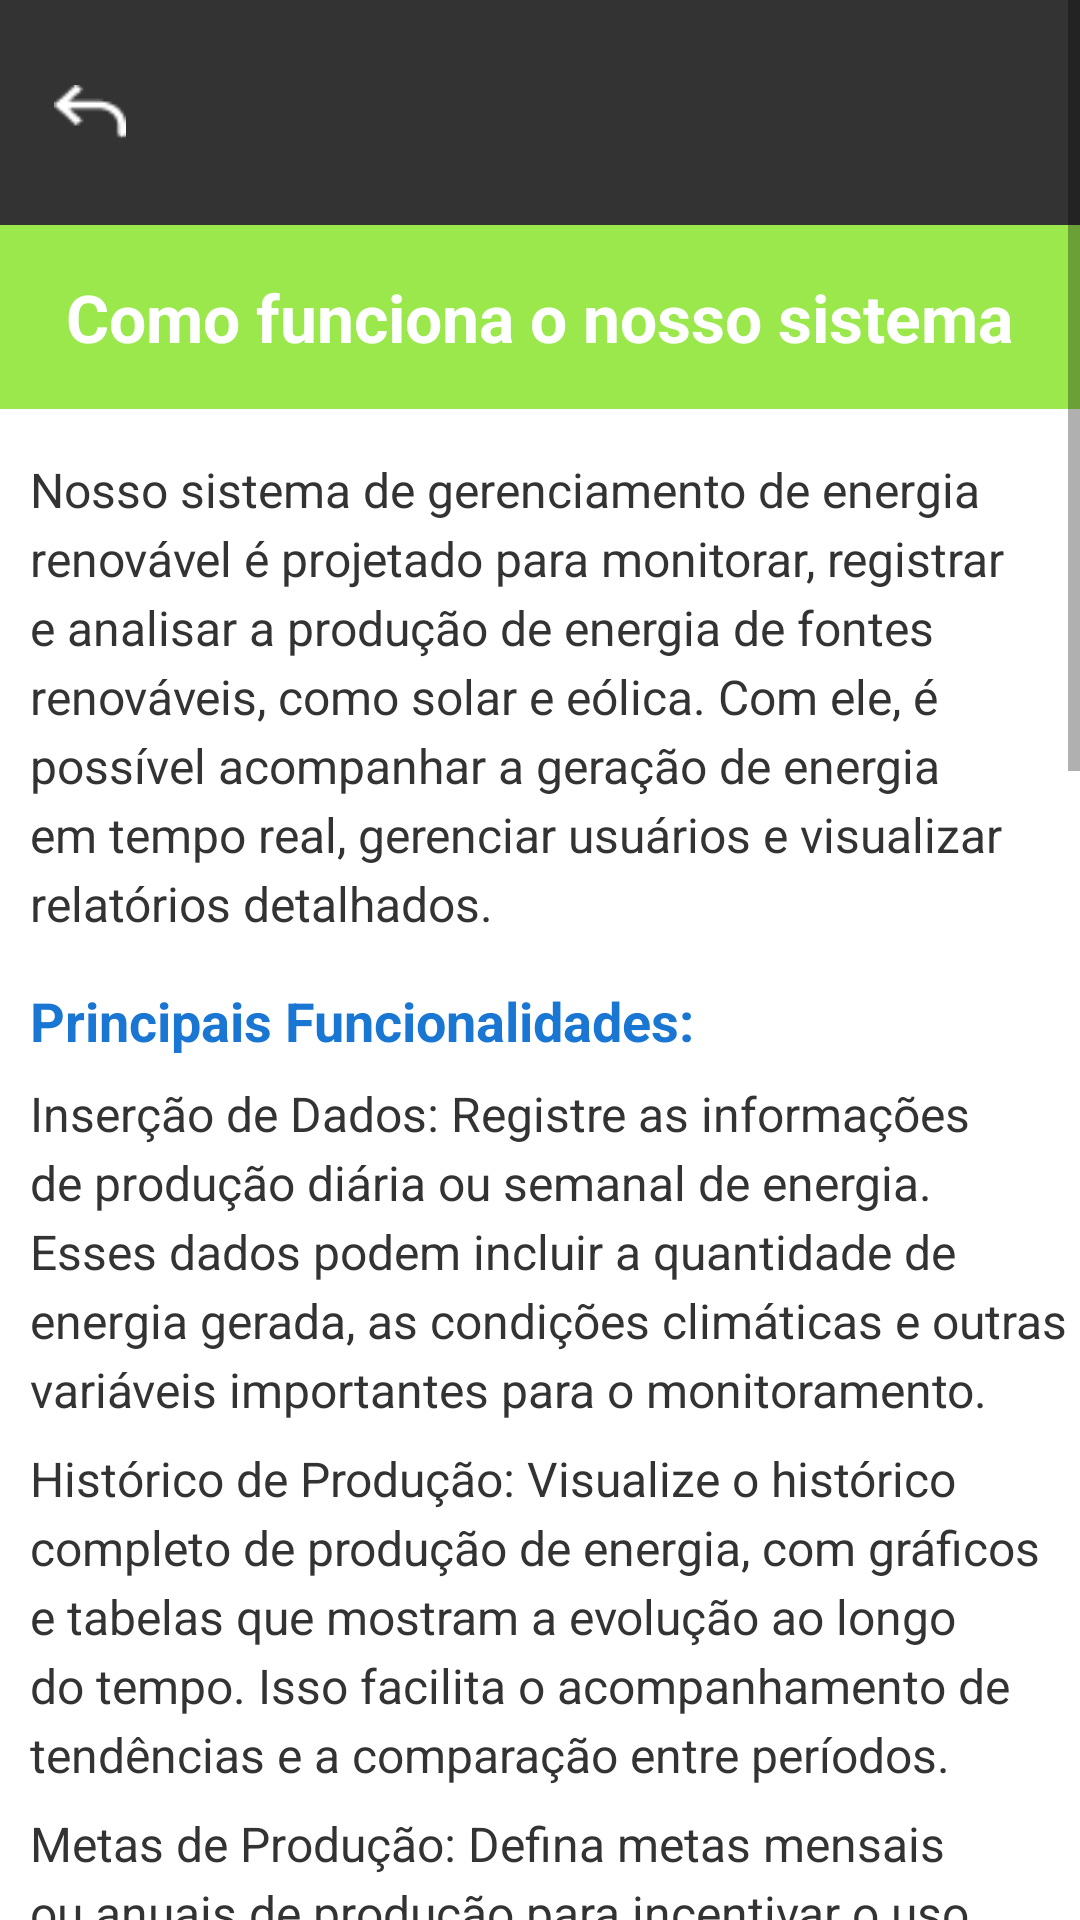

Screen size 1080 x 1920. Icon name, then its center in pixels as point (x, y):
back: point (90, 111)
